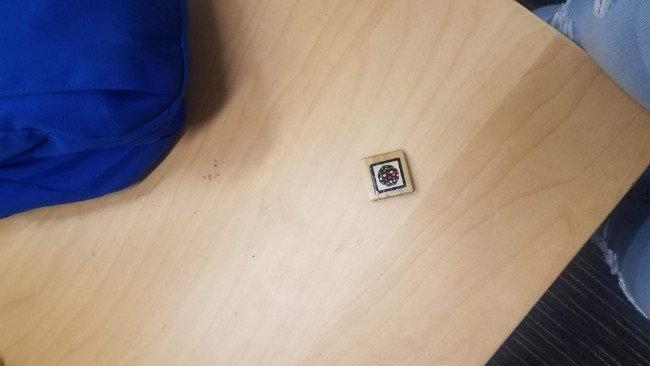cookie: (368, 155, 408, 195)
